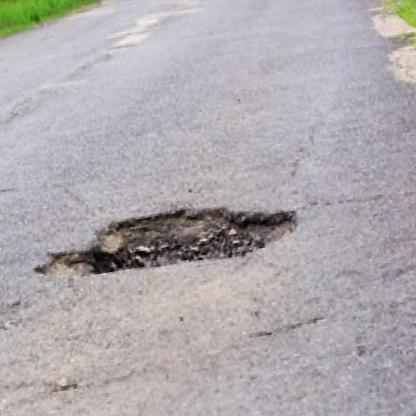pothole: (27, 190, 305, 293)
